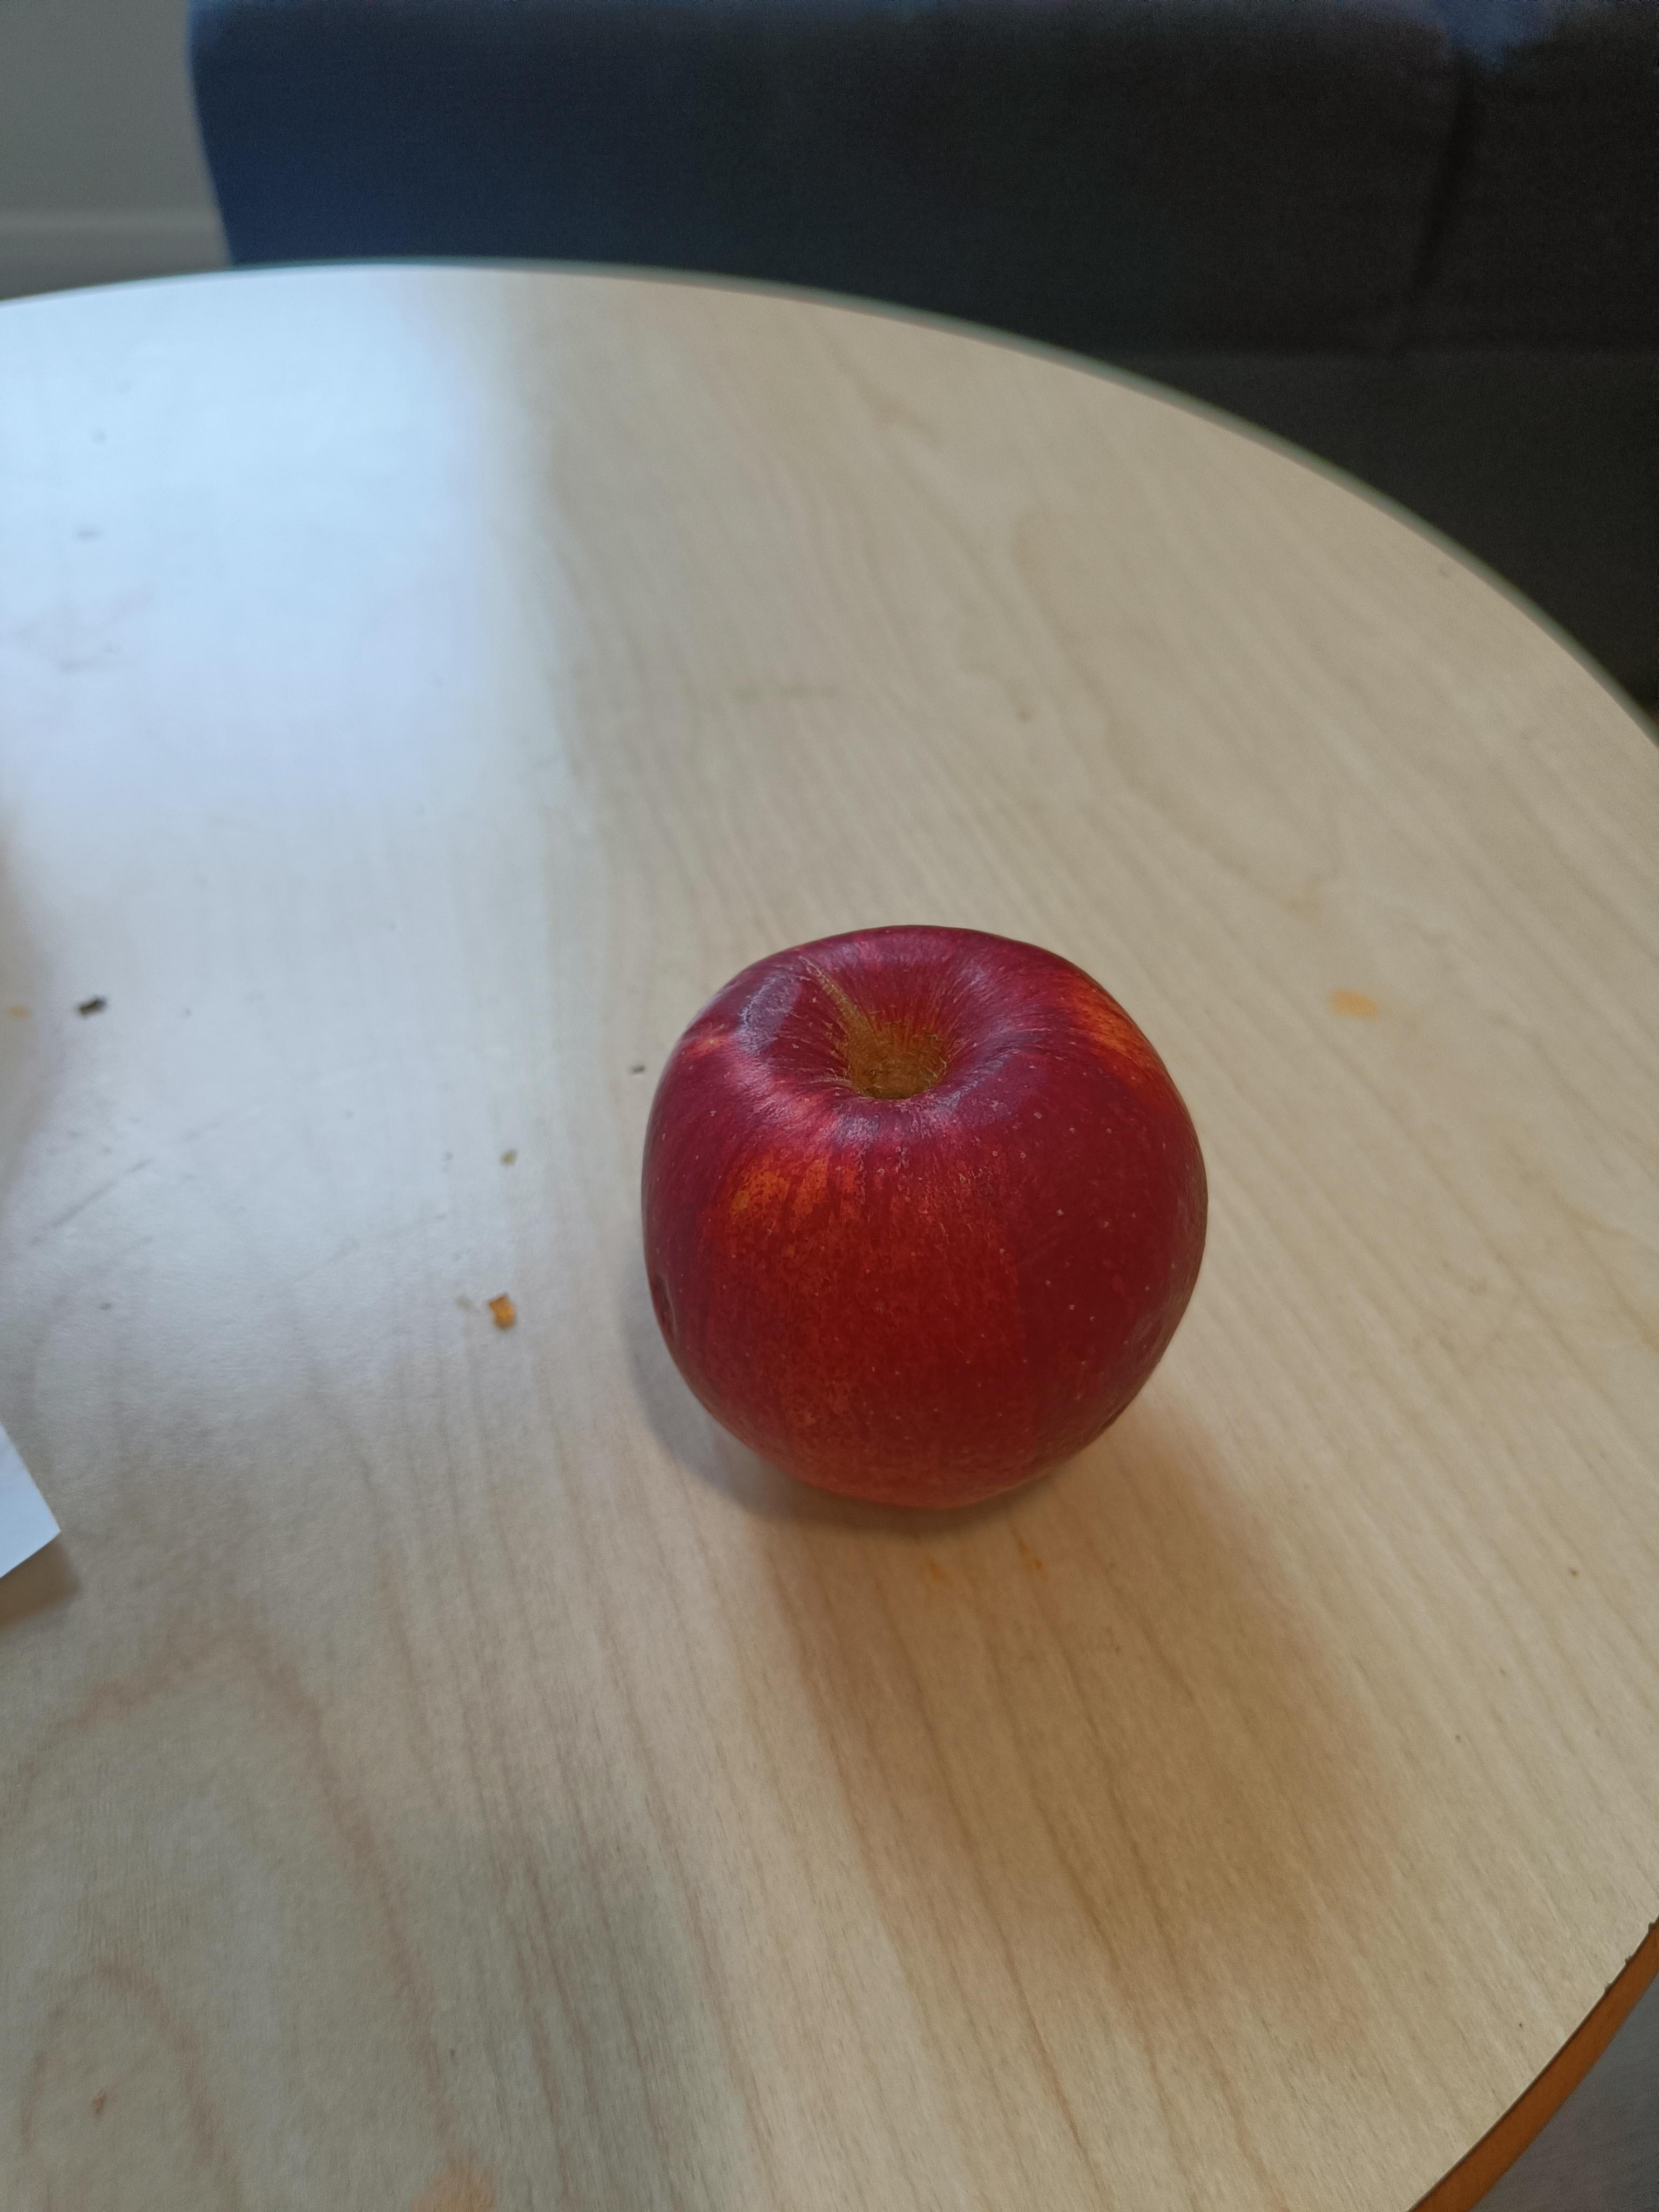Apple: (624, 913, 1213, 1505)
